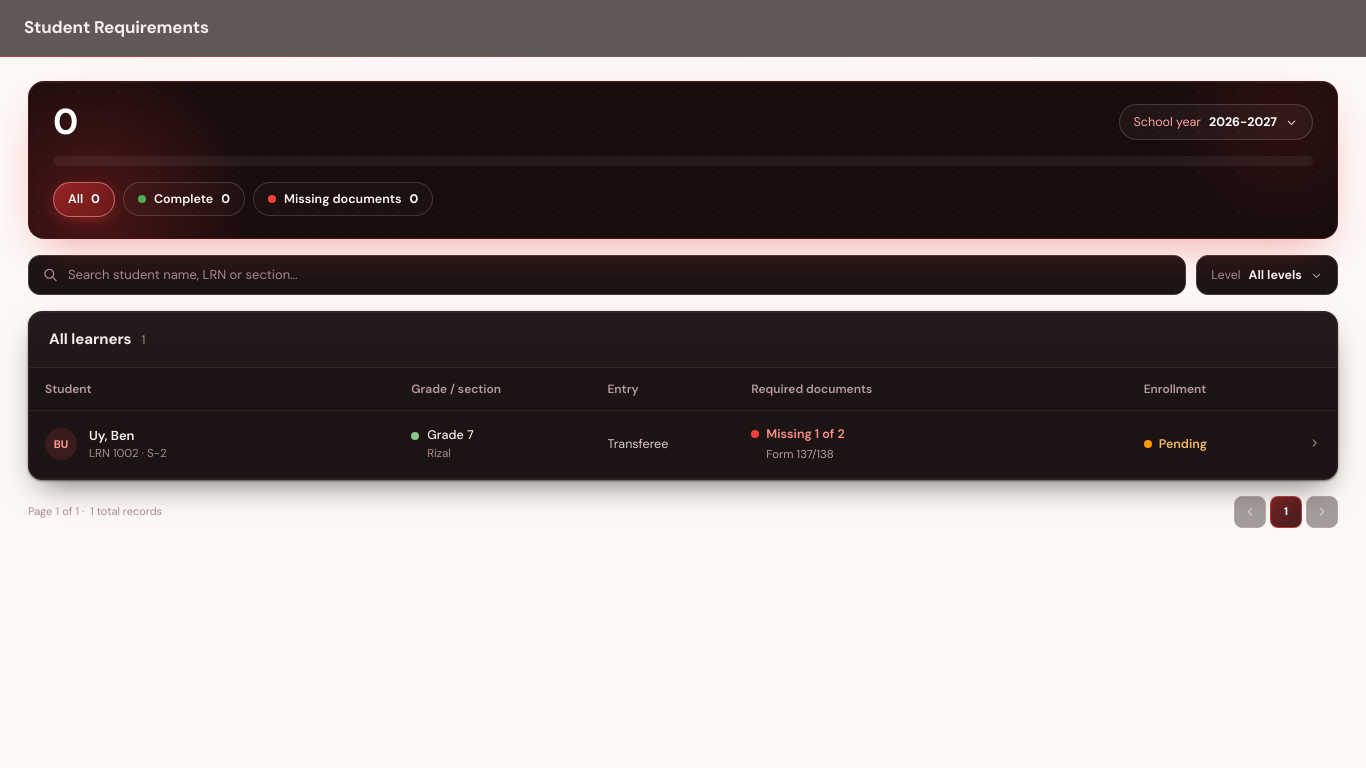
Test: RequirementsPage — dark mode › says so when the checklist can't load
Click the text "Uy, Ben".
click(112, 435)  # box [89,427,134,444]
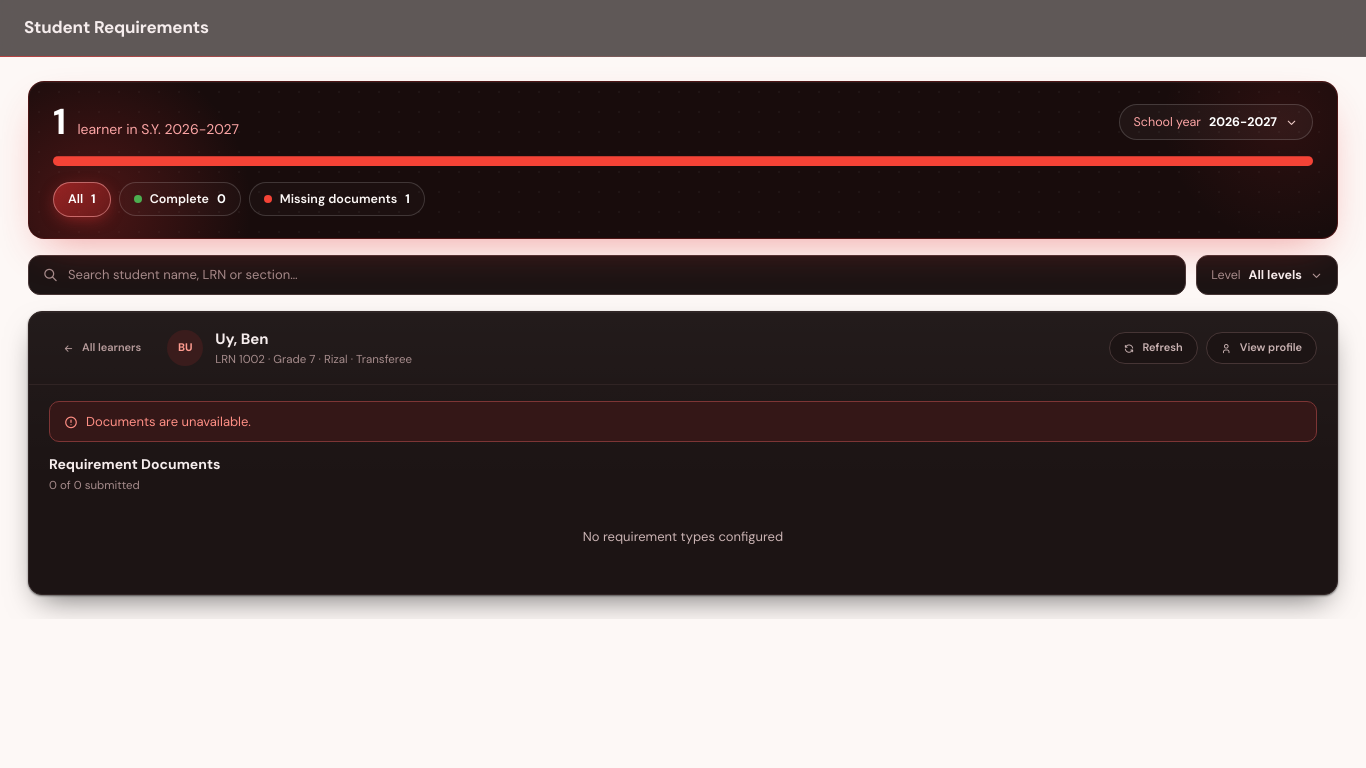
Now the text "Documents are unavailable." is shown, box [49,401,1317,442]
